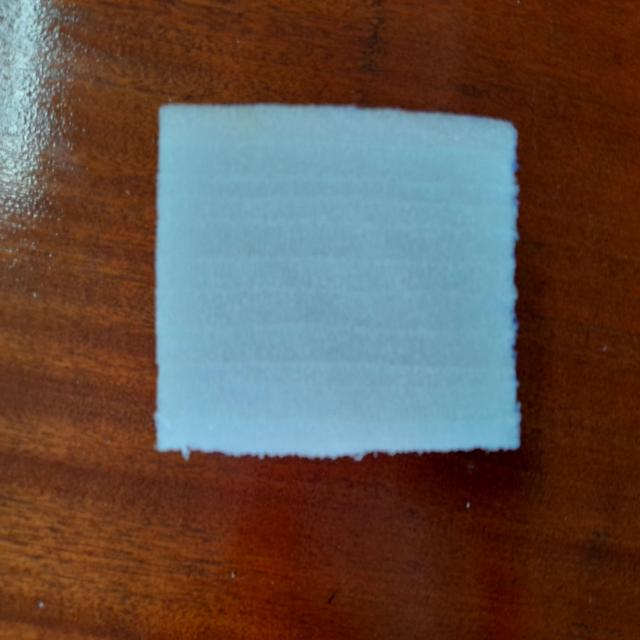trailer: (150, 92, 525, 469)
